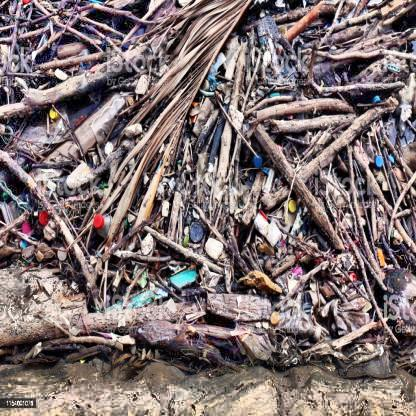Wood wastes: (0, 295, 266, 372), (249, 91, 416, 199), (0, 0, 107, 107), (300, 0, 416, 73)
